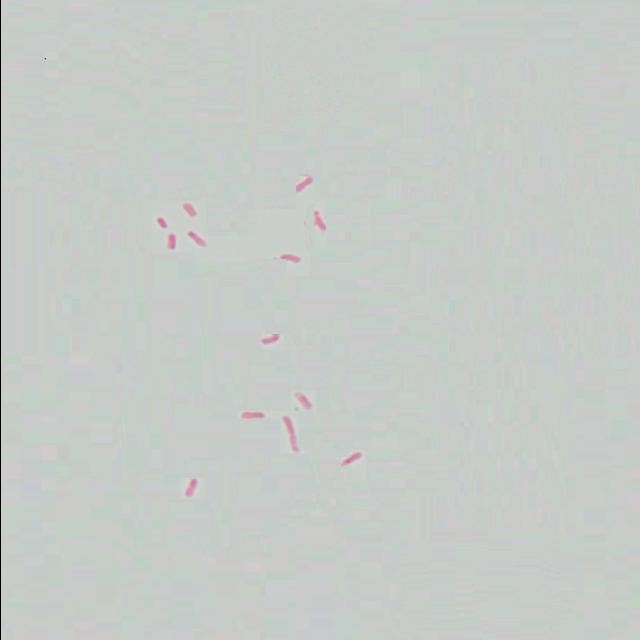E-coli: (175, 201, 203, 223), (270, 250, 304, 266), (276, 416, 303, 436), (182, 229, 210, 247), (290, 392, 314, 411), (290, 174, 315, 192), (157, 232, 180, 250), (233, 409, 267, 421), (284, 436, 304, 455), (309, 213, 329, 231), (340, 453, 365, 467), (183, 478, 199, 497), (258, 333, 283, 345), (151, 214, 171, 229)
